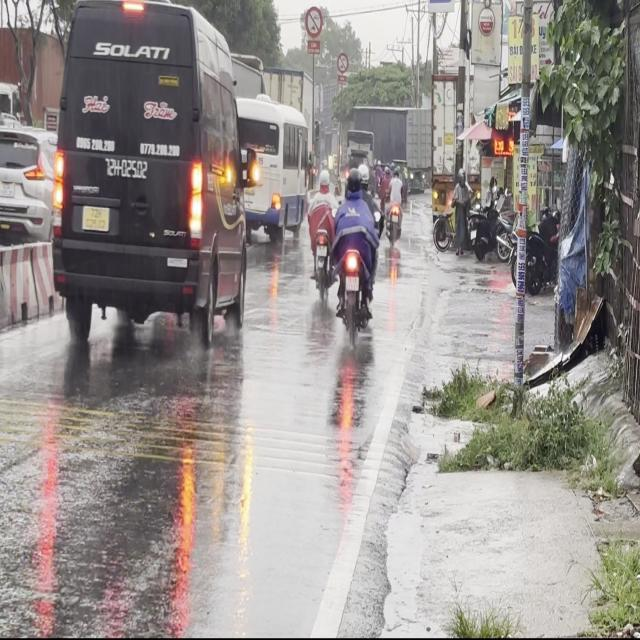helmet: (345, 166, 361, 195), (357, 162, 369, 184)
licenseplate: (332, 163, 379, 342)
nohelmet: (346, 275, 358, 290)
